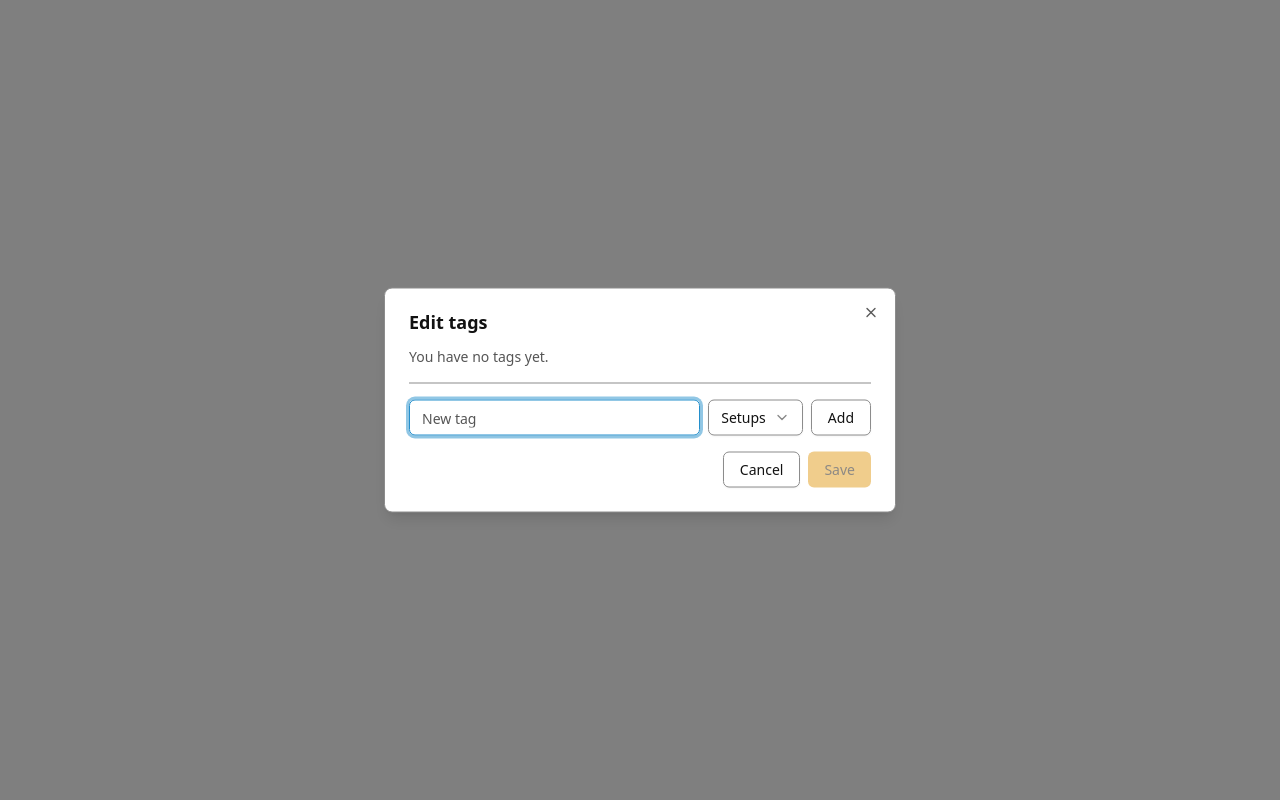
Test: TagPicker › keeps the created tag checked and shows the per-position message when the PUT is refused
Step 1. Type "my tag" into the field labelled "New tag" → (555, 418), box [409,400,700,436]
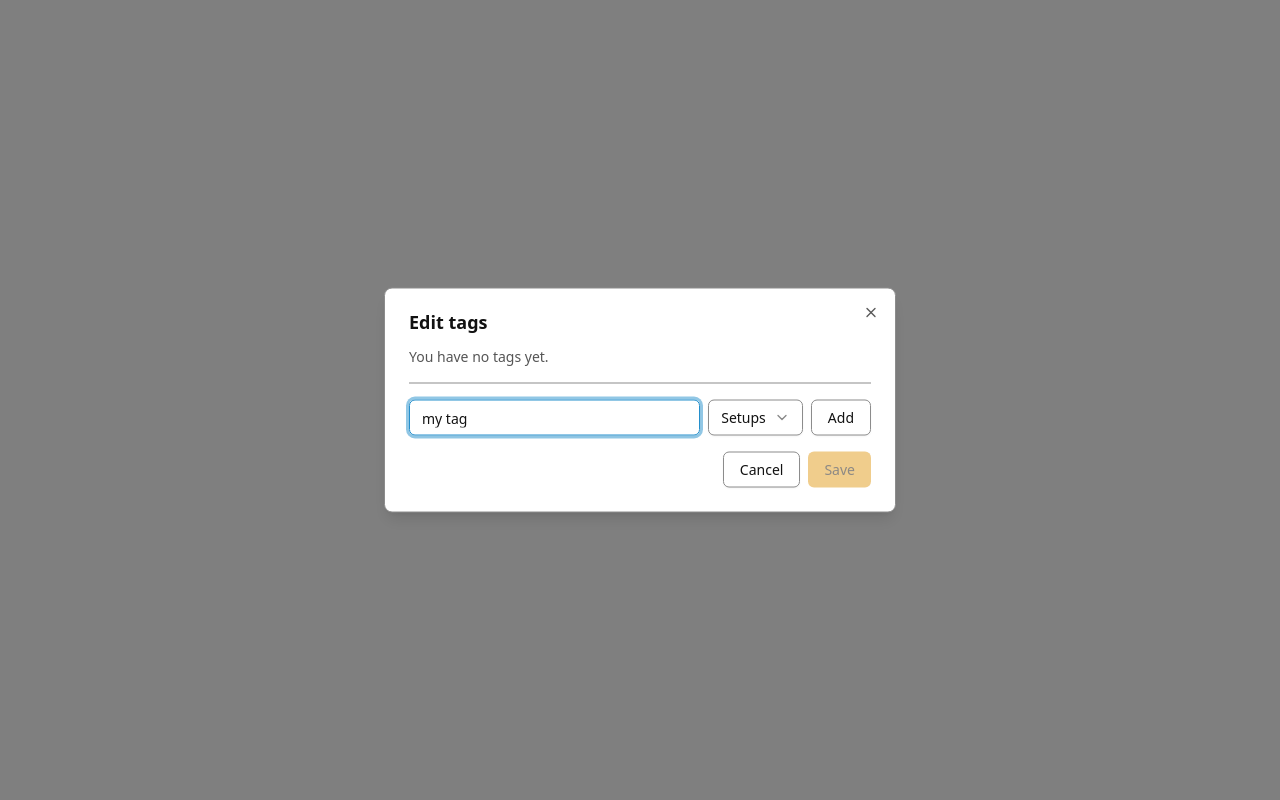
Step 2. Click the button "Add" → (841, 418), box [811,400,871,436]
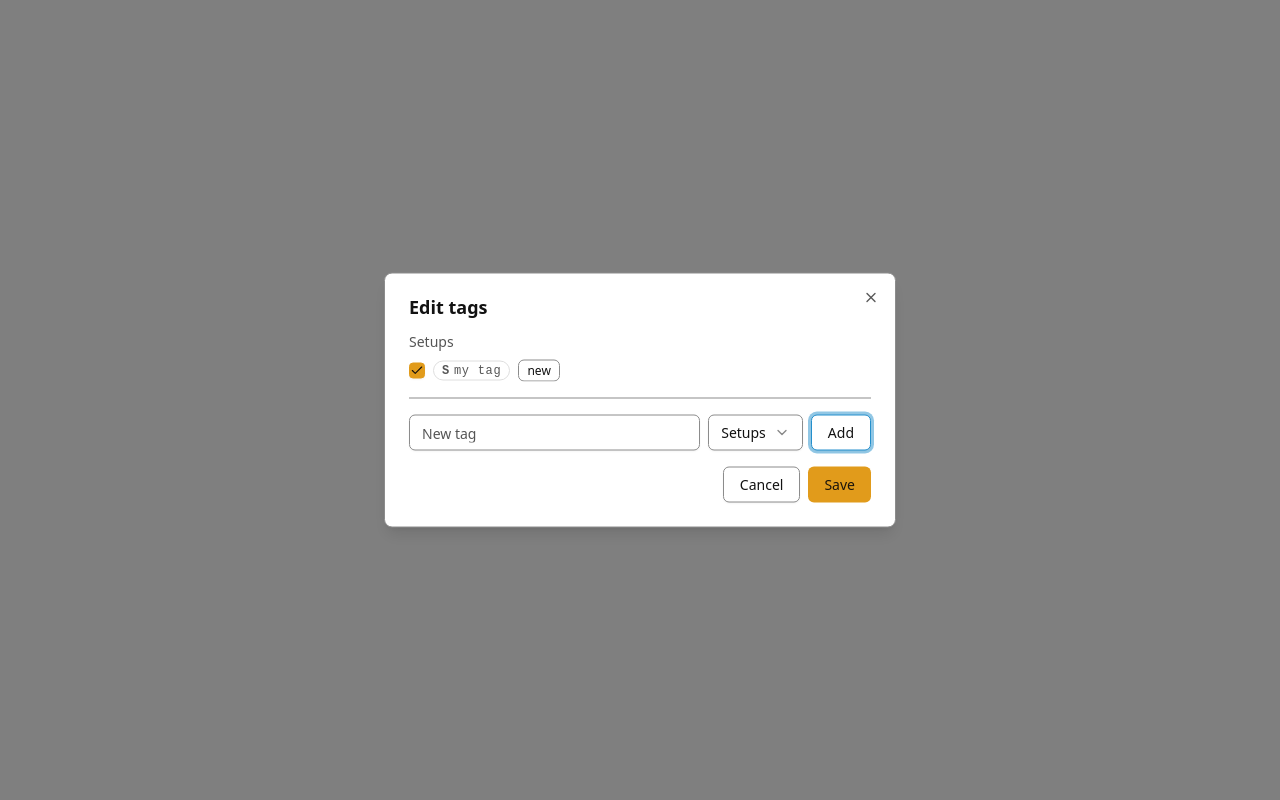
Step 3. Click the button "Save" → (840, 484), box [808,466,871,502]
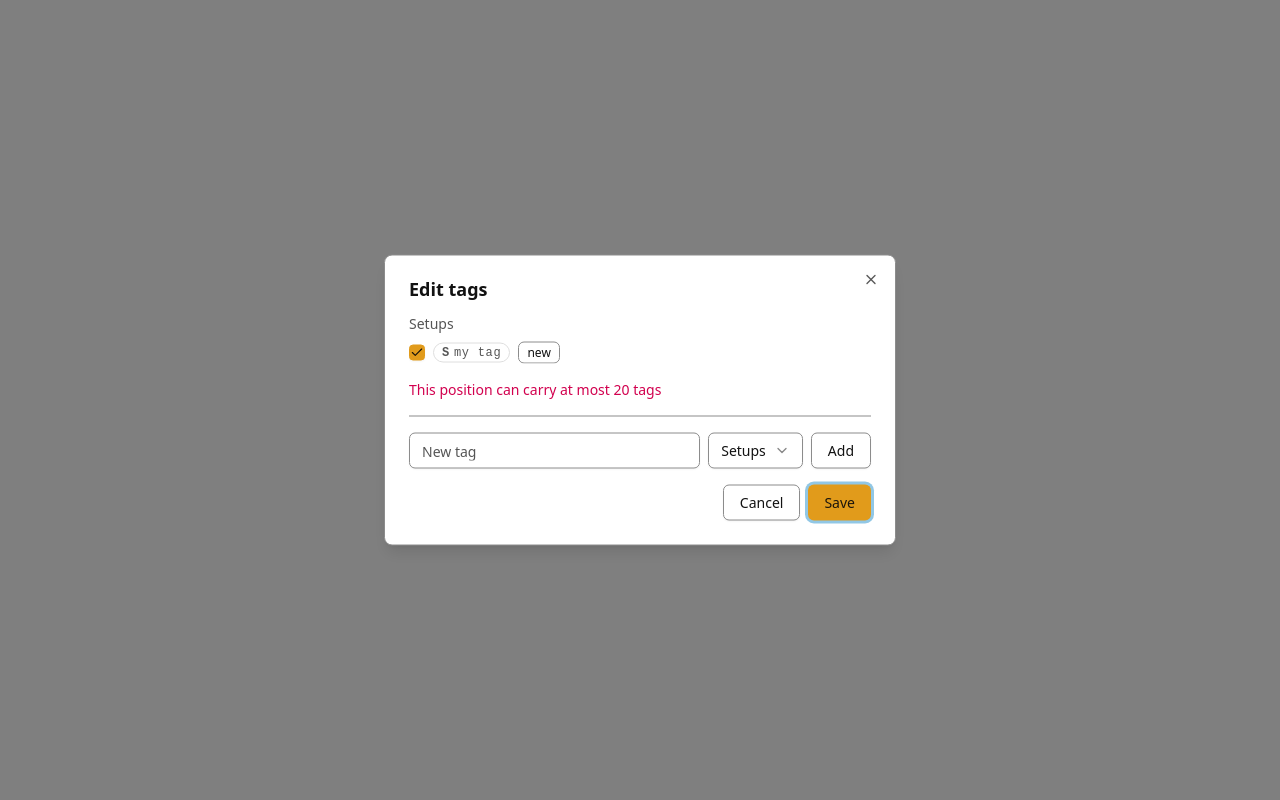
Expected: the heading "Edit tags" is shown, [409,276,488,300]
Result: the text "This position can carry at most 20 tags" is shown at [409,380,661,398]
